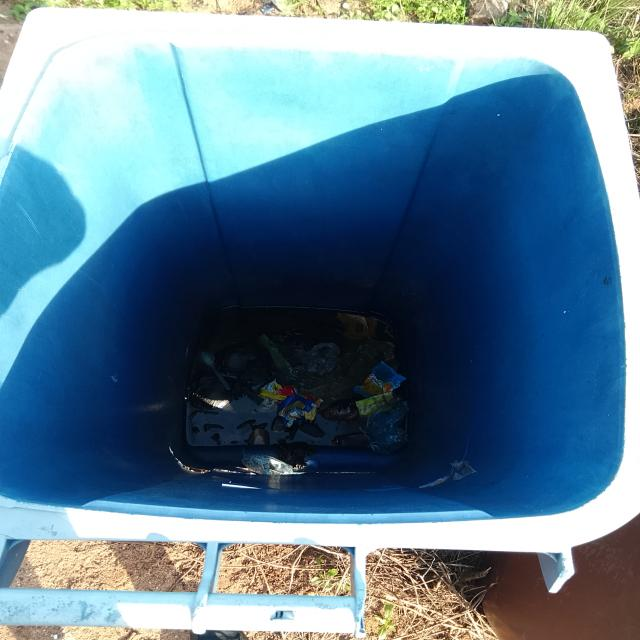empty: (21, 31, 636, 544)
